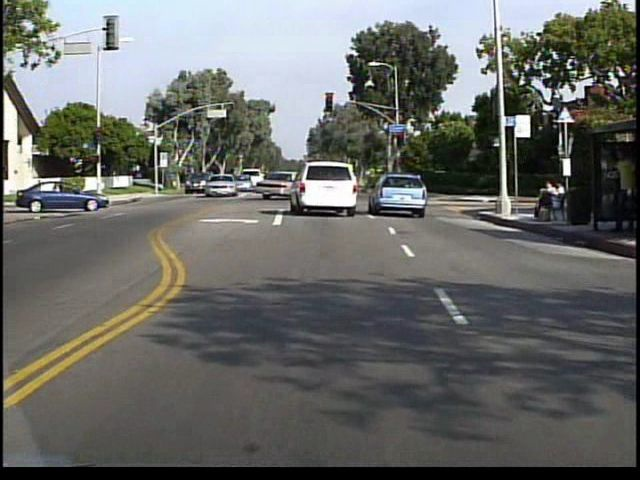person: (532, 178, 556, 218), (552, 178, 567, 221)
